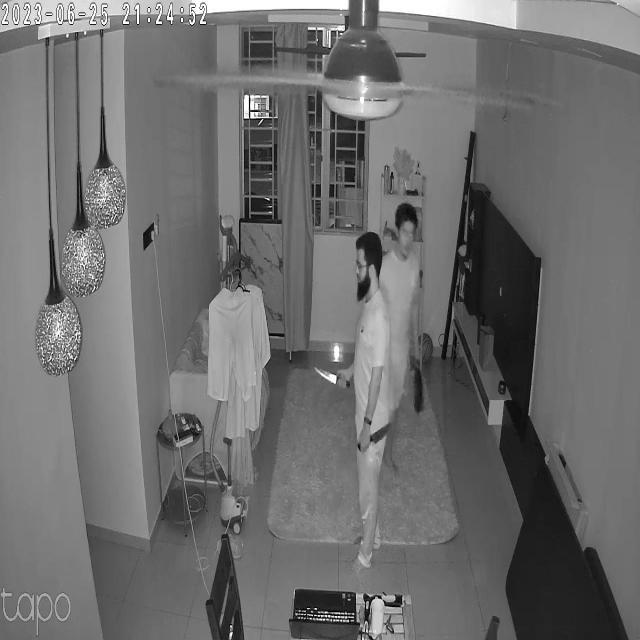Knife: (307, 352, 353, 402), (351, 417, 400, 460)
